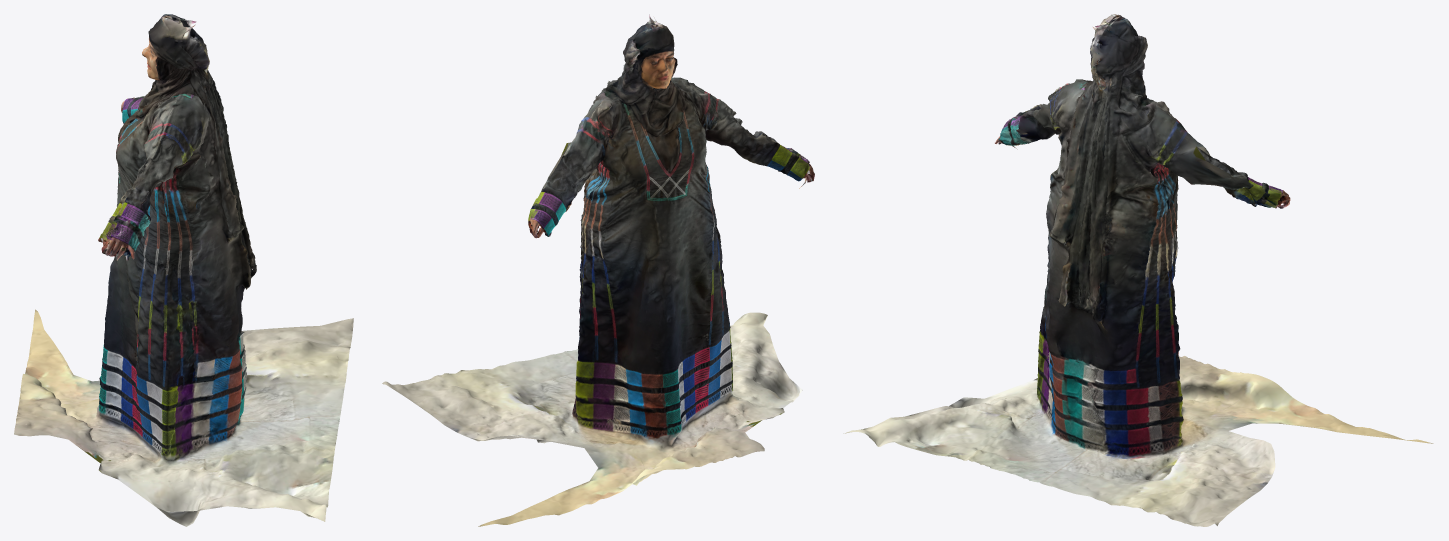
The picture shows the model from 3 angles, left to right: view 1: azimuth 30°, elevation 25°; view 2: azimuth 150°, elevation 25°; view 3: azimuth 270°, elevation 25°; orthographic projection. The views are drawn at different scales.
Visible parts, largest first — view 1: Object_2; view 2: Object_2; view 3: Object_2.
Part boxes in pixels (left/top/right/bottom): Object_2: left=14, top=14, right=353, bottom=526; Object_2: left=382, top=14, right=814, bottom=526; Object_2: left=843, top=14, right=1433, bottom=526.
Size of the model in its own units: 1.56 by 1.76 by 2.17.
1 material, 1 textured.
